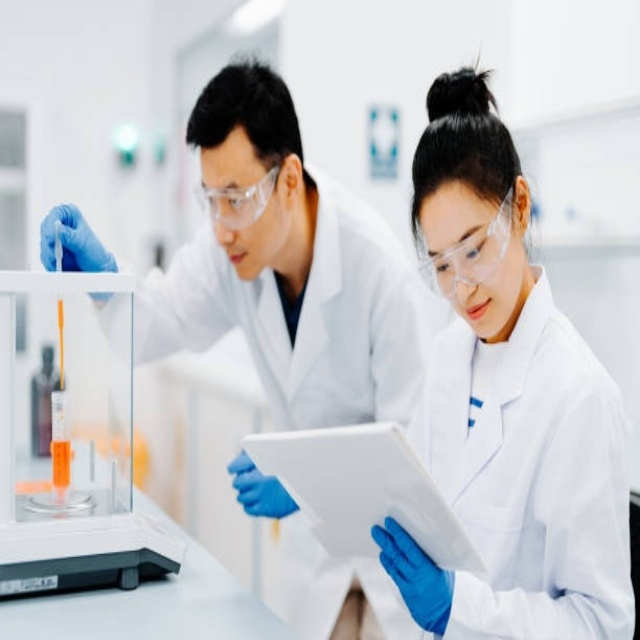Gafas: (420, 186, 513, 299), (194, 160, 281, 229)
Guantes: (374, 516, 455, 637), (39, 203, 120, 295), (229, 448, 299, 520)
Sin_mascara: (464, 290, 495, 342), (223, 242, 256, 281)
